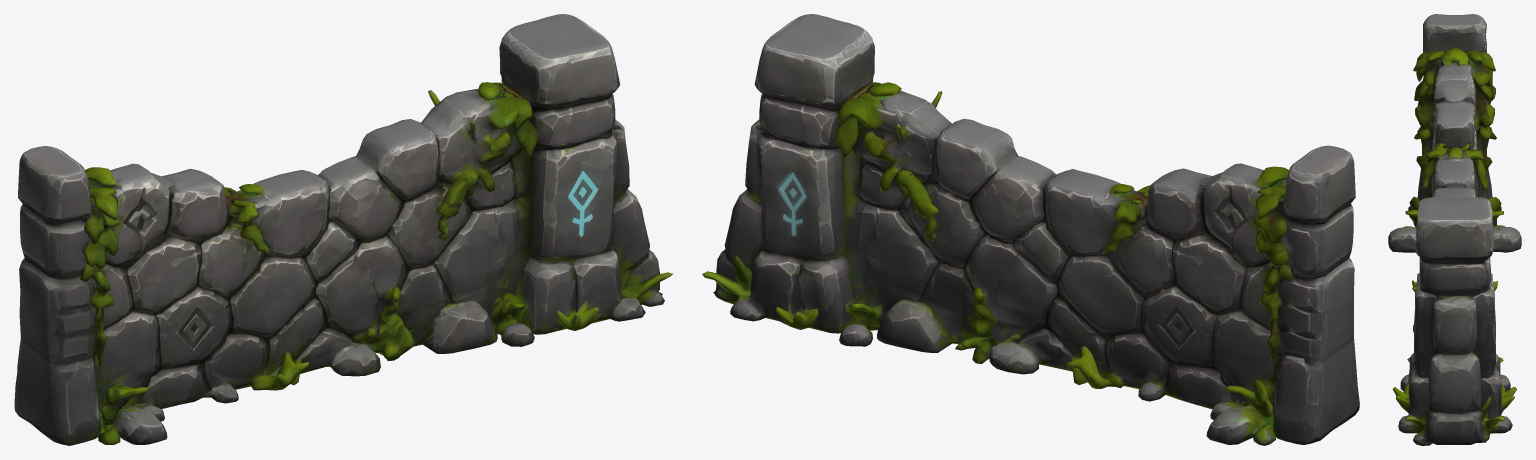
The model's file is muro_der.fbx.
The picture shows the model from 3 angles, left to right: view 1: azimuth 30°, elevation 25°; view 2: azimuth 150°, elevation 25°; view 3: azimuth 270°, elevation 25°; orthographic projection. The views are drawn at different scales.
Parts seen in each view (by area): view 1: Mesh_0; view 2: Mesh_0; view 3: Mesh_0.
Boxes of the visible parts, left/top/right/bottom form: Mesh_0: left=14, top=14, right=672, bottom=445; Mesh_0: left=702, top=14, right=1359, bottom=445; Mesh_0: left=1388, top=14, right=1521, bottom=445.
Size of the model in its own units: 191 by 79.45 by 46.58.
1 material, 1 textured.
